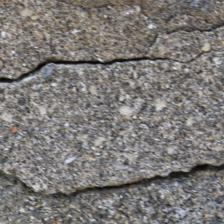Crack: (0, 67, 102, 141), (17, 89, 129, 135), (197, 15, 224, 66)
